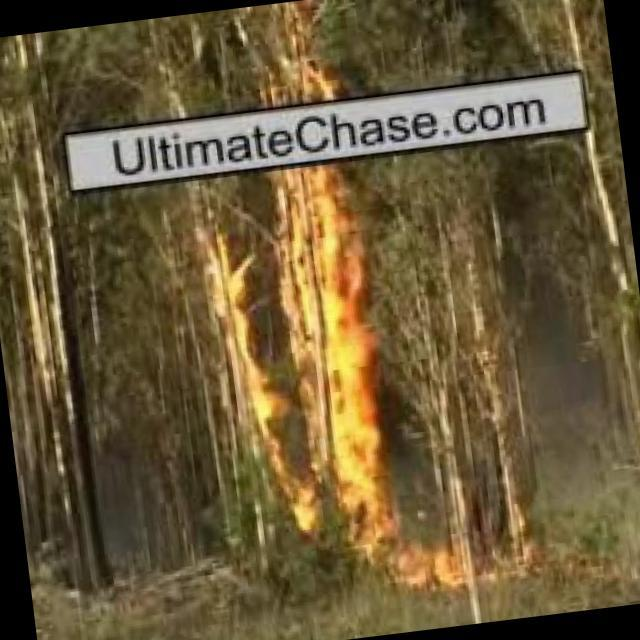Fire: (193, 163, 396, 557), (251, 5, 341, 115), (371, 541, 469, 590)
